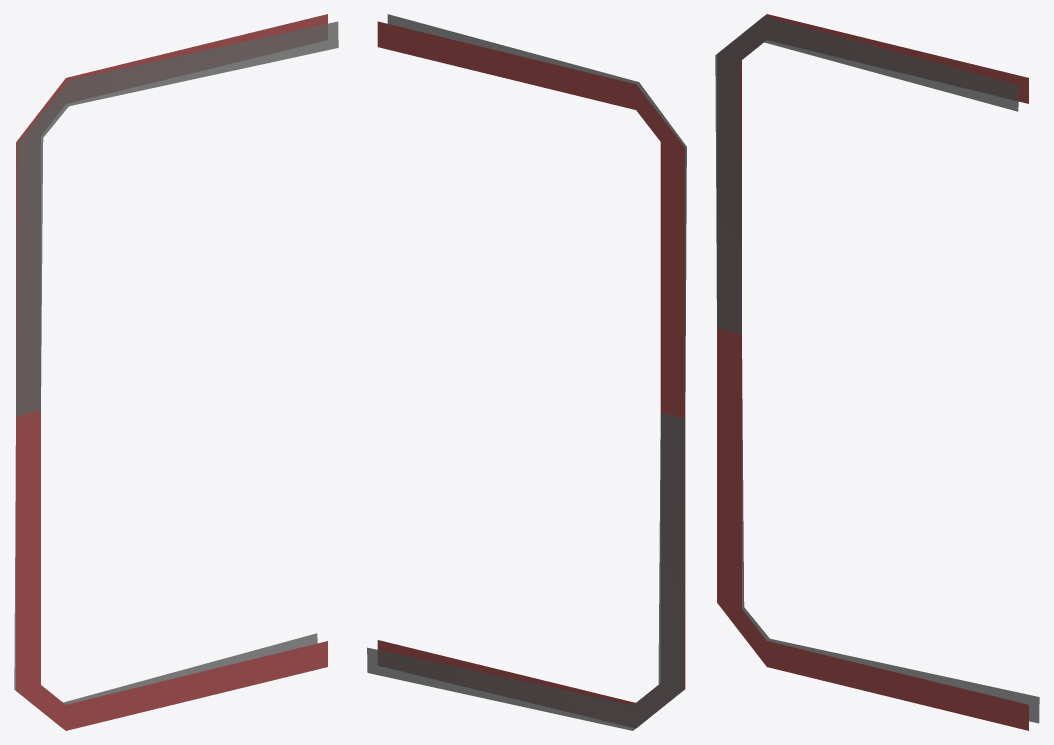
Rendered from warping-cold-formed-u-100-50-4-8-2-349.glb.
3 views of the same model, side by side, from view 1: azimuth 30°, elevation 25°; view 2: azimuth 150°, elevation 25°; view 3: azimuth 330°, elevation 25° (orthographic).
Parts seen in each view (by area): view 1: undeformed cross-section, cross-section with warping; view 2: undeformed cross-section, cross-section with warping; view 3: undeformed cross-section, cross-section with warping.
Boxes of the visible parts, left/top/right/bottom form: undeformed cross-section: left=16, top=14, right=327, bottom=730; cross-section with warping: left=14, top=21, right=338, bottom=727; undeformed cross-section: left=377, top=21, right=685, bottom=727; cross-section with warping: left=367, top=14, right=686, bottom=730; undeformed cross-section: left=717, top=14, right=1028, bottom=730; cross-section with warping: left=715, top=16, right=1039, bottom=723.
Bounding box in the file's own units: 0.05 × 0.1 × 0.00589.
